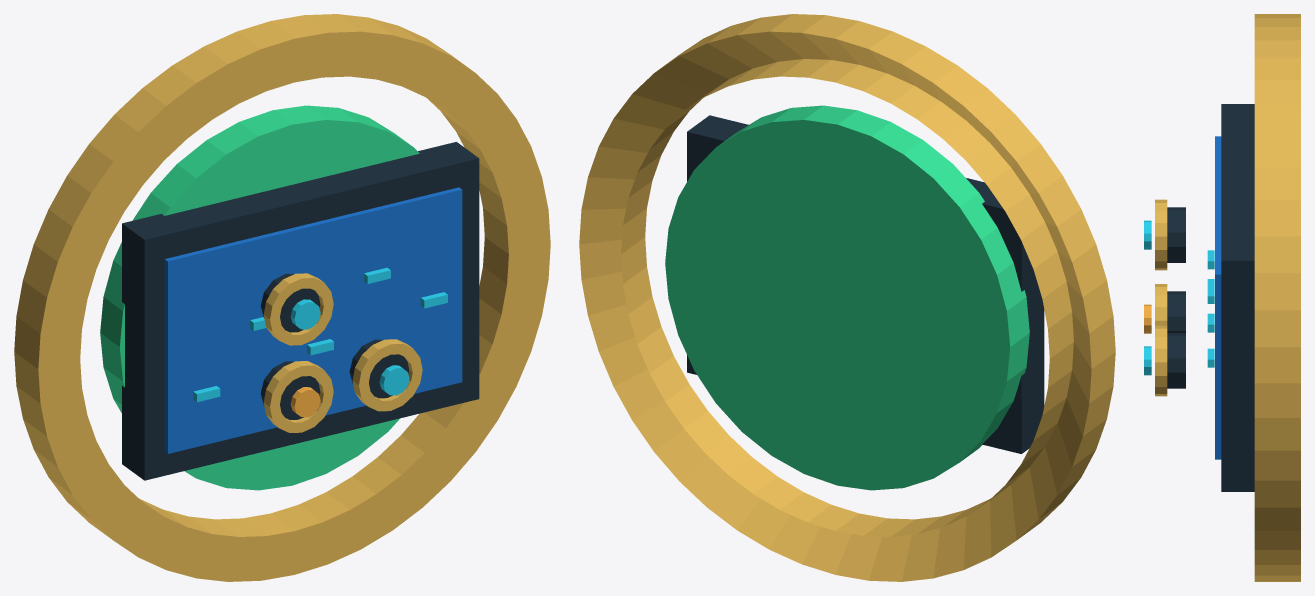
File: 71_L83_MissionSurvivalCertificationBeacon.fbx
The picture shows the model from 3 angles, left to right: view 1: azimuth 30°, elevation 25°; view 2: azimuth 150°, elevation 25°; view 3: azimuth 270°, elevation 25°; orthographic projection. The views are drawn at different scales.
Parts seen in each view (by area): view 1: MissionSurvivalCertificationBeacon, MissionSurvivalCertificationBeacon_Part_0003, MissionSurvivalCertificationBeacon_Part_0002; view 2: MissionSurvivalCertificationBeacon, MissionSurvivalCertificationBeacon_Part_0002; view 3: MissionSurvivalCertificationBeacon, MissionSurvivalCertificationBeacon_Part_0002, MissionSurvivalCertificationBeacon_Part_0003.
Part boxes in pixels (box(x1,y1,x2,y2)): MissionSurvivalCertificationBeacon: box(14, 14, 550, 581); MissionSurvivalCertificationBeacon_Part_0003: box(164, 187, 462, 453); MissionSurvivalCertificationBeacon_Part_0002: box(122, 142, 479, 480); MissionSurvivalCertificationBeacon: box(579, 14, 1115, 581); MissionSurvivalCertificationBeacon_Part_0002: box(687, 115, 1044, 453); MissionSurvivalCertificationBeacon: box(1144, 14, 1300, 581); MissionSurvivalCertificationBeacon_Part_0002: box(1221, 104, 1254, 491); MissionSurvivalCertificationBeacon_Part_0003: box(1215, 136, 1221, 459).
Bounding box in the file's own units: 98 × 98 × 27.05.
